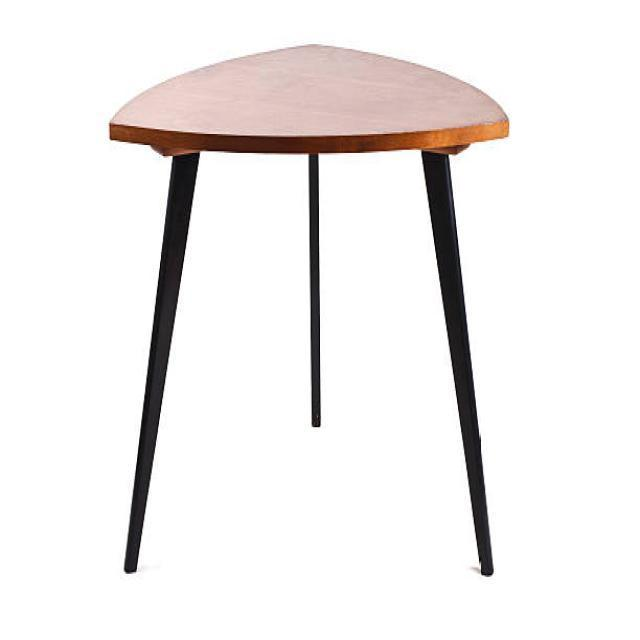table: (108, 41, 510, 577)
